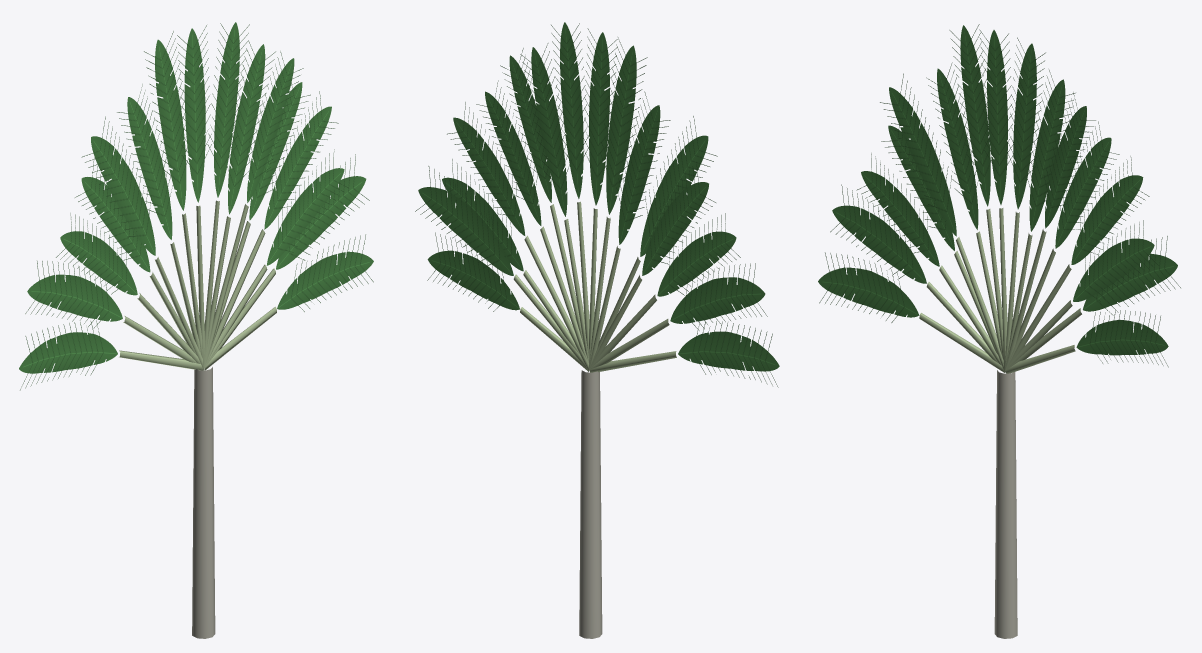
Rendered from ravenala-madagascariensis.glb.
The picture shows the model from 3 angles, left to right: view 1: azimuth 30°, elevation 25°; view 2: azimuth 150°, elevation 25°; view 3: azimuth 330°, elevation 25°; orthographic projection.
Visible parts, largest first — view 1: folhas, peciolo, estipe; view 2: folhas, peciolo, estipe; view 3: folhas, peciolo, estipe.
Boxes of the visible parts, x1,y1,x2,y2 form: folhas: (19, 22, 373, 390); peciolo: (119, 200, 276, 370); estipe: (192, 367, 215, 638); folhas: (415, 22, 779, 387); peciolo: (513, 201, 676, 372); estipe: (579, 370, 602, 638); folhas: (818, 24, 1180, 367); peciolo: (919, 208, 1081, 373); estipe: (994, 370, 1017, 638).
Bounding box in the file's own units: 5 × 8 × 0.2713.
Materials: 3 (1 with a texture image).
